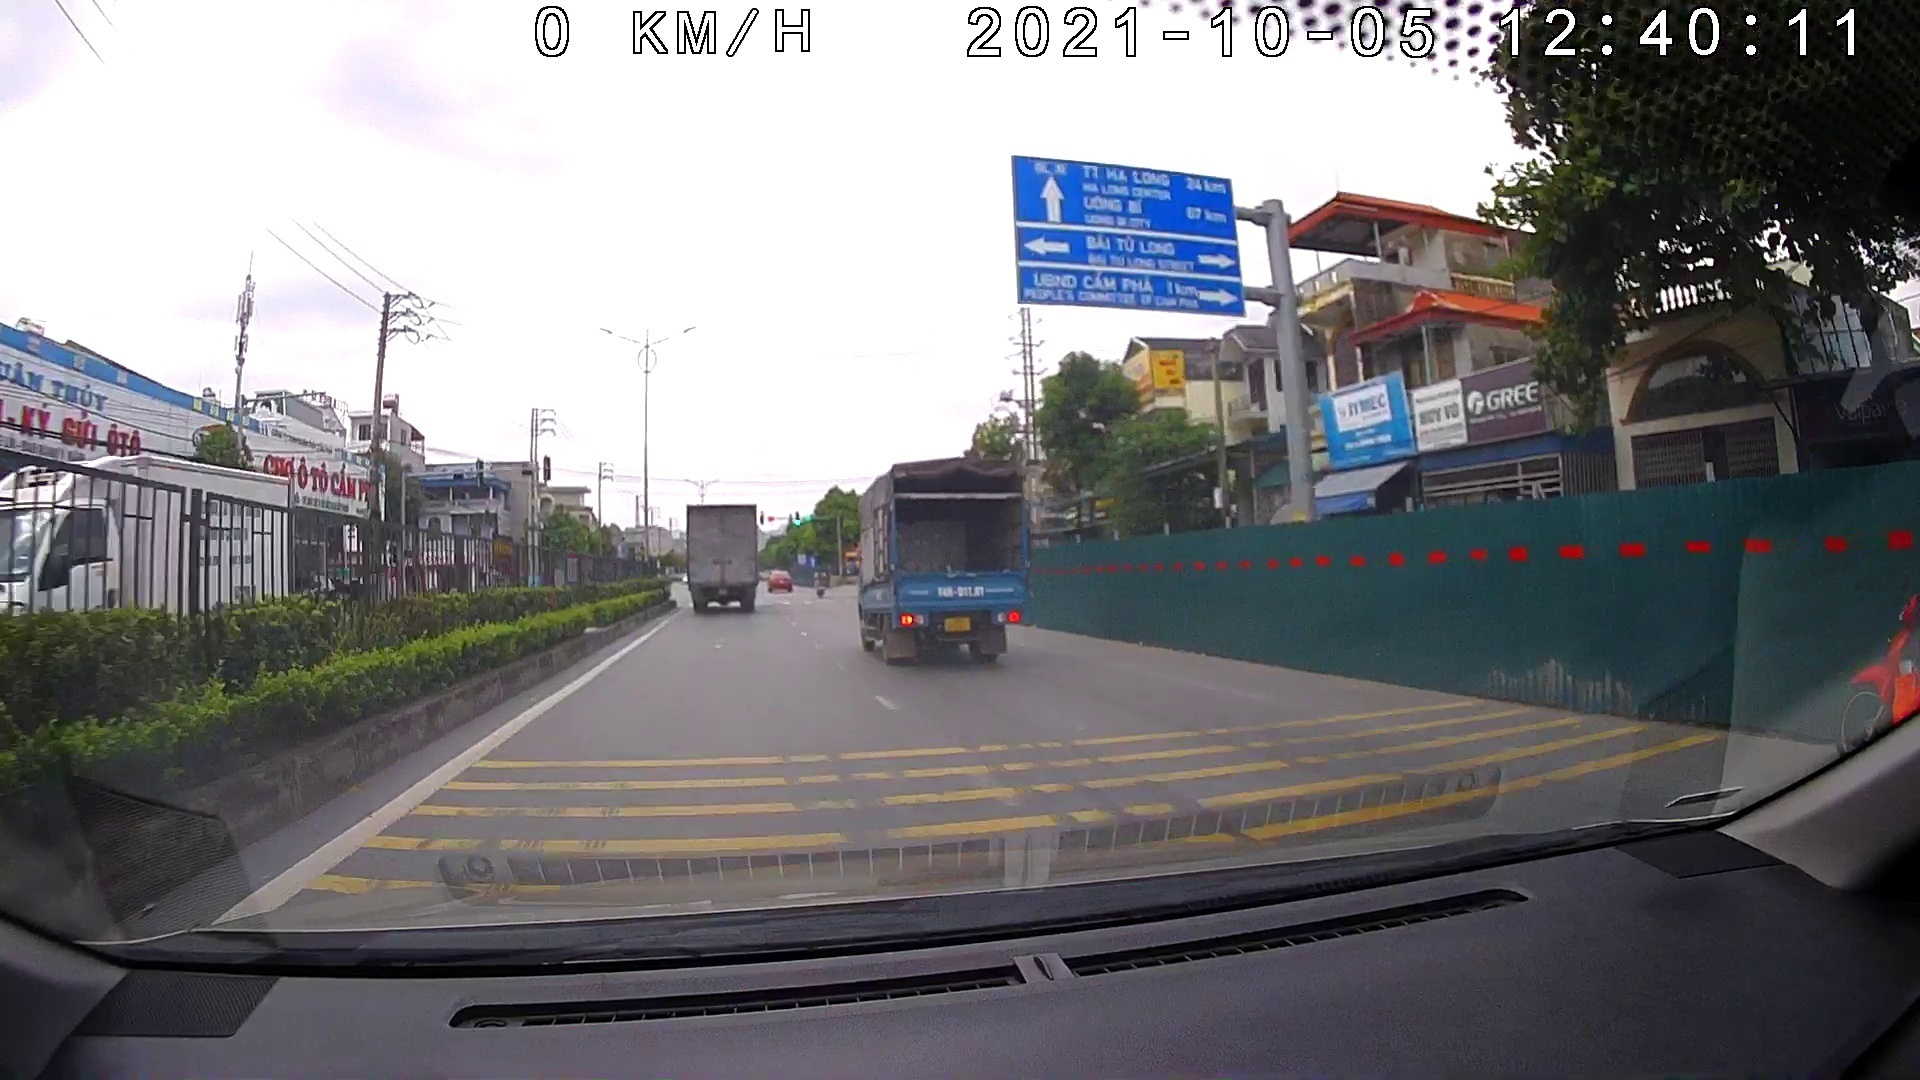Bien khac: (1013, 152, 1249, 322)
